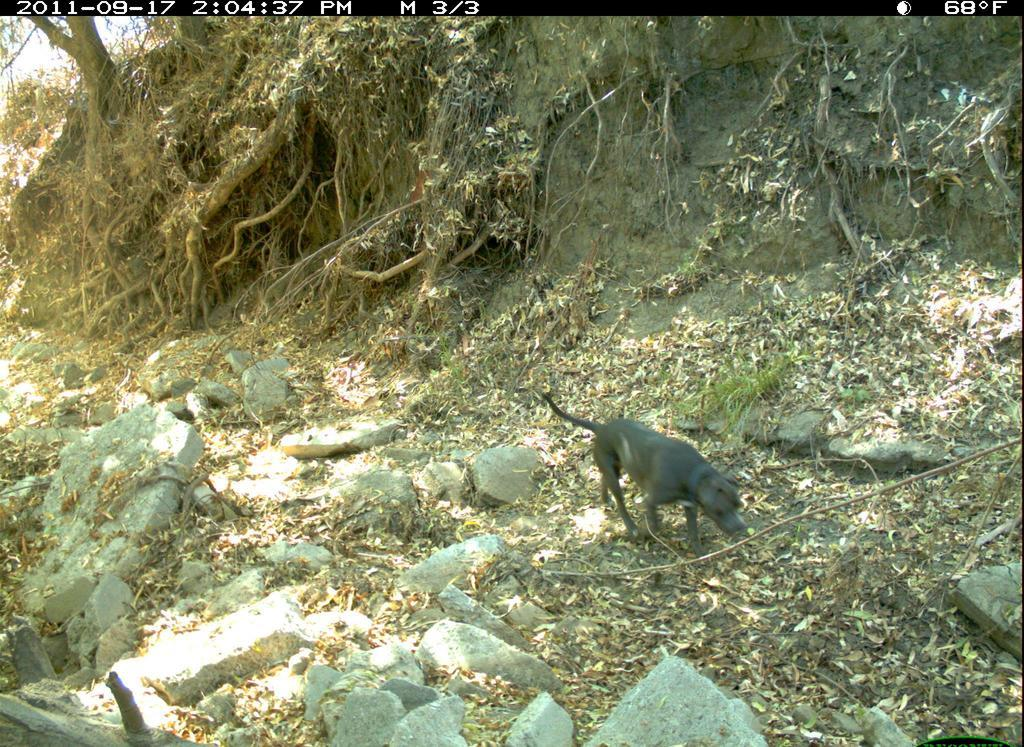dog: (538, 383, 758, 571)
